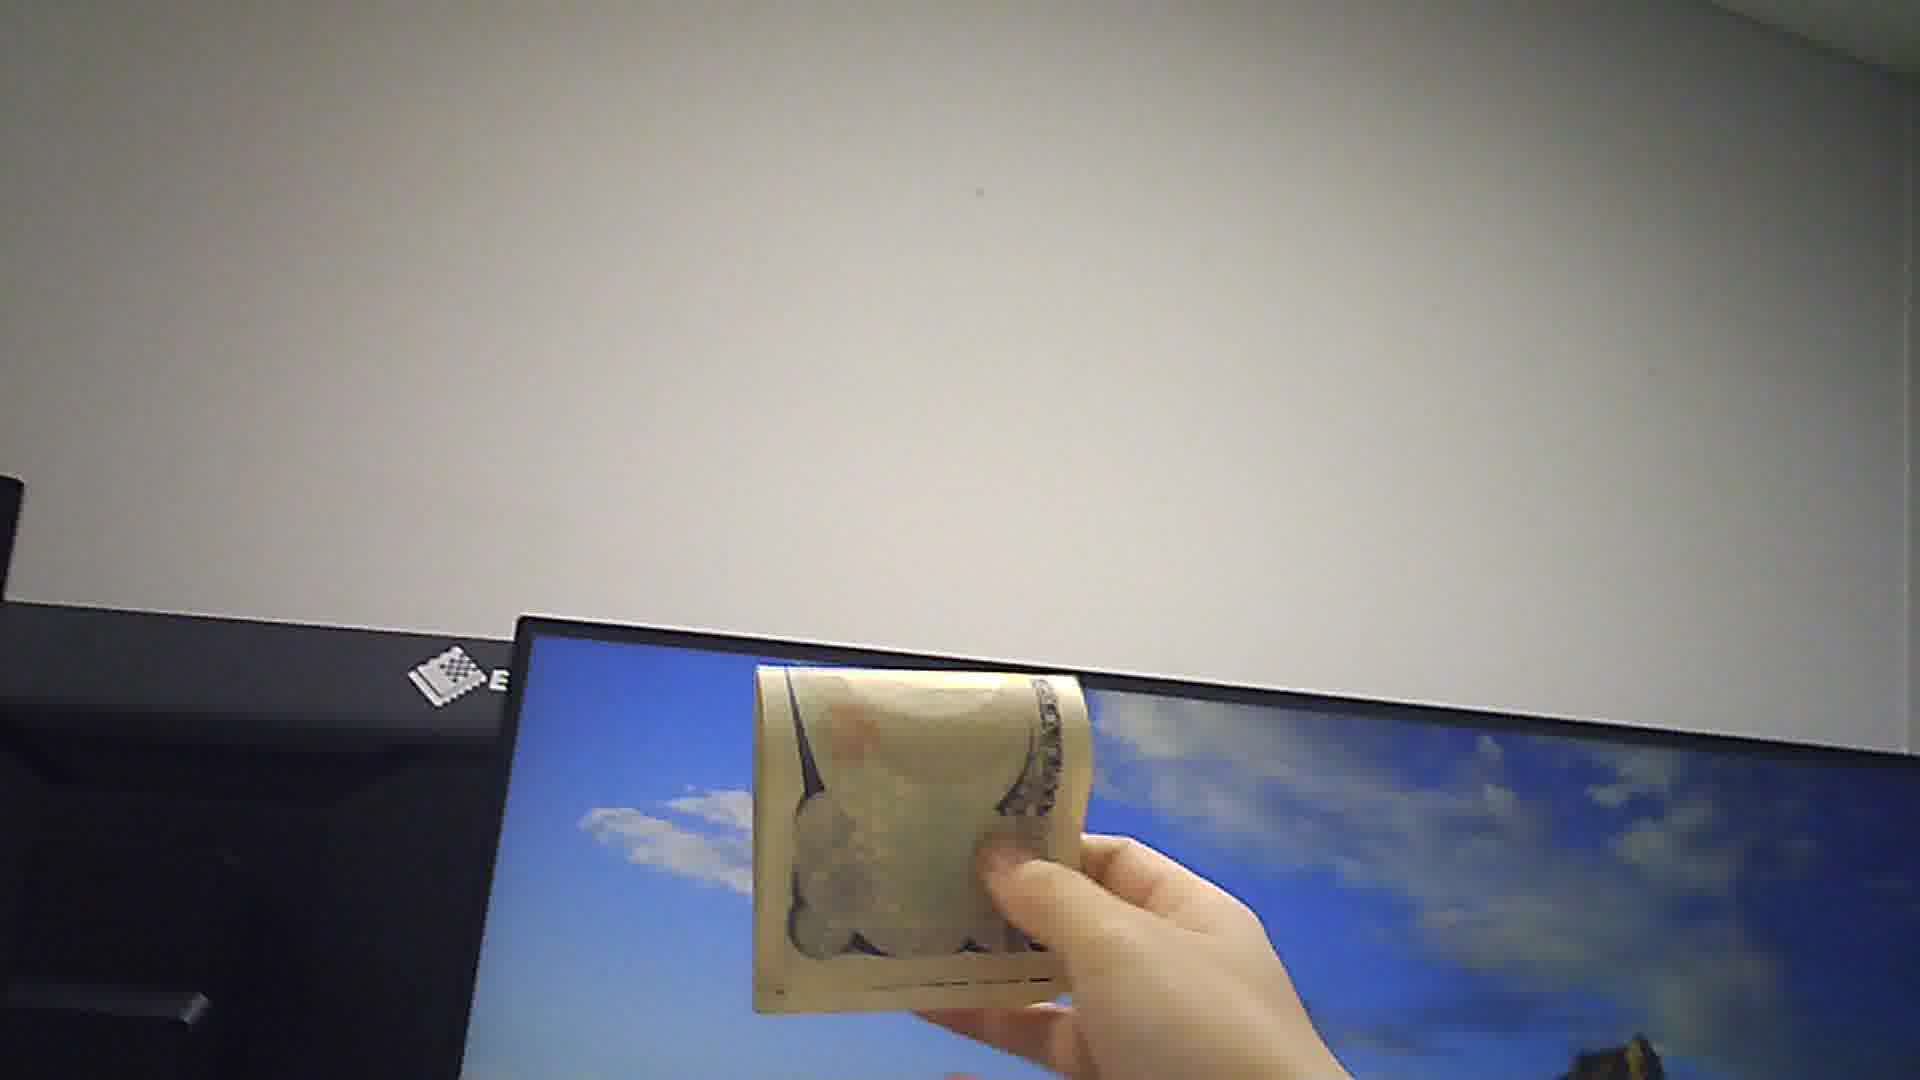1,000 Yen: (745, 647, 1091, 1005)
